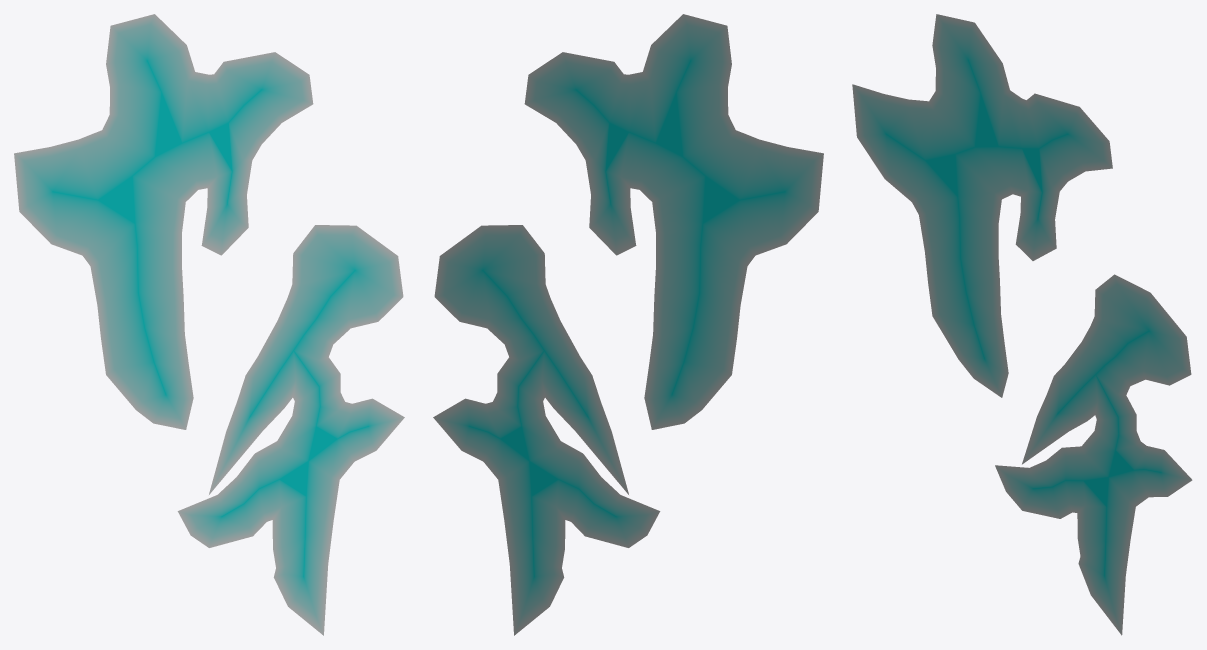
The model's file is SM_EFF_Text_D53NJ1_01.glb.
3 views of the same model, side by side, from view 1: azimuth 30°, elevation 25°; view 2: azimuth 150°, elevation 25°; view 3: azimuth 330°, elevation 25° (orthographic). The views are drawn at different scales.
Visible parts, largest first — view 1: SM_EFF_Text_D53NJ1_01; view 2: SM_EFF_Text_D53NJ1_01; view 3: SM_EFF_Text_D53NJ1_01.
Part boxes in pixels (x1=…): SM_EFF_Text_D53NJ1_01: x1=14, y1=14, x2=404, y2=635; SM_EFF_Text_D53NJ1_01: x1=433, y1=14, x2=823, y2=635; SM_EFF_Text_D53NJ1_01: x1=852, y1=14, x2=1192, y2=635.
Size of the model in its own units: 0.4348 by 0.7047 by 3.83e-15.
